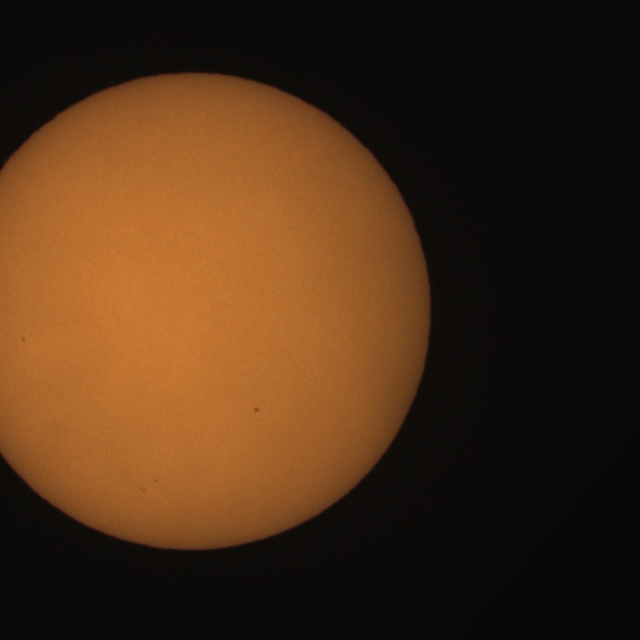sunspot: (21, 332, 32, 343), (138, 485, 148, 494), (252, 406, 261, 414), (21, 335, 26, 343)
